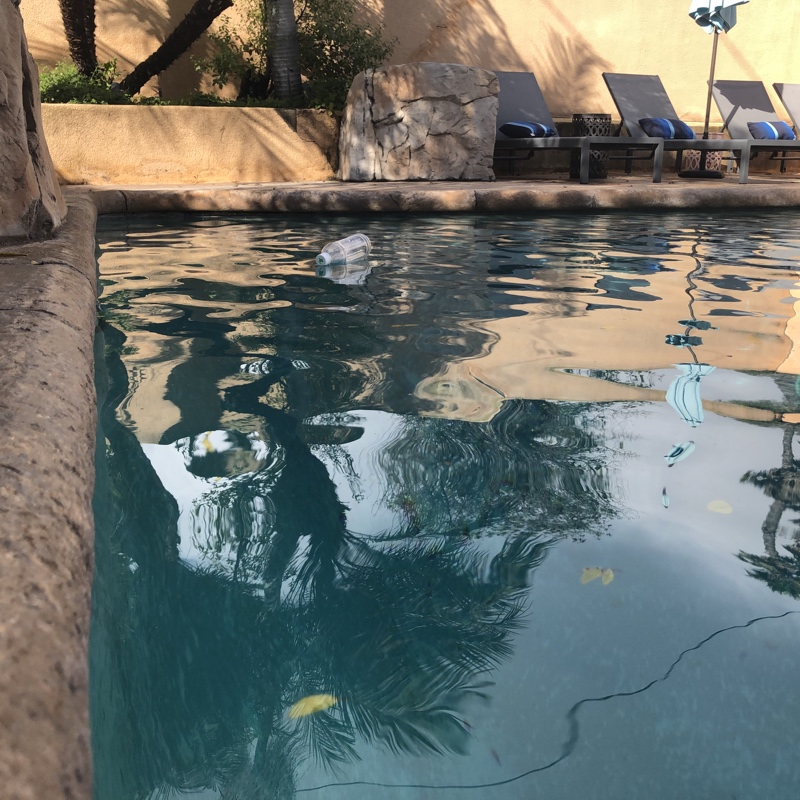Plastic Bottle: (317, 230, 374, 269)
